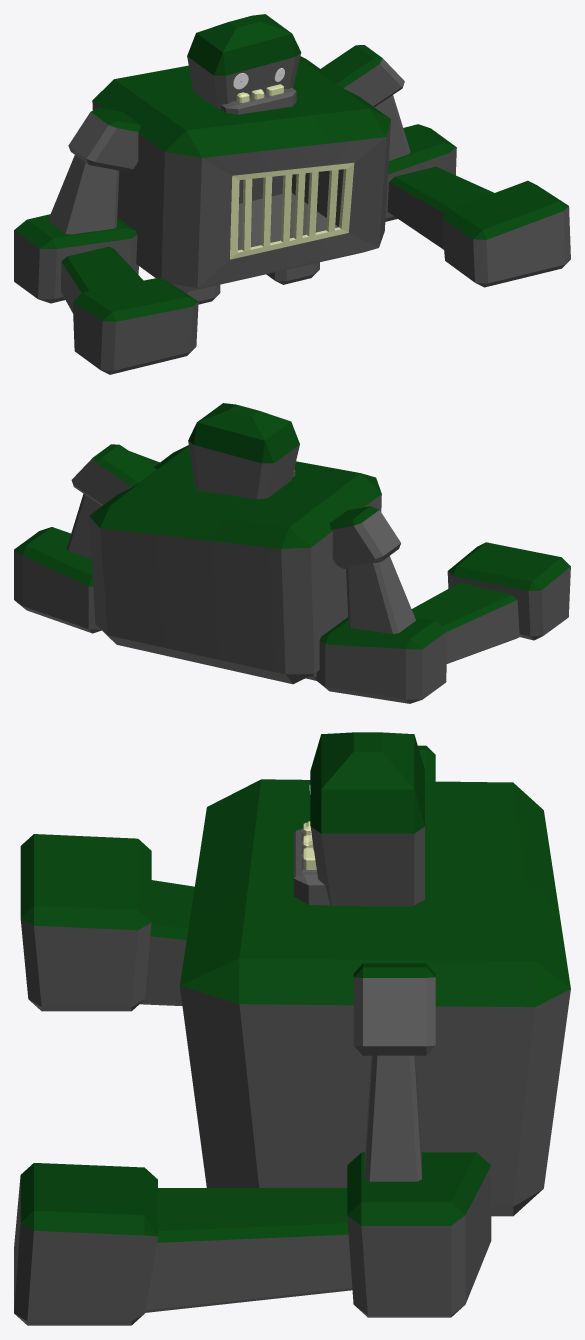
Rendered from UnlockGoofy.fbx.
3 renders of one model, top to bottom at view 1: azimuth 30°, elevation 25°; view 2: azimuth 150°, elevation 25°; view 3: azimuth 270°, elevation 25°, orthographic. The views are drawn at different scales.
Visible parts, largest first — view 1: Sphere.078; view 2: Sphere.078; view 3: Sphere.078.
Boxes of the visible parts, x1,y1,x2,y2 form: Sphere.078: (14,14,570,374); Sphere.078: (14,403,570,703); Sphere.078: (14,732,570,1325).
Size of the model in its own units: 2889 by 1536 by 1720.
